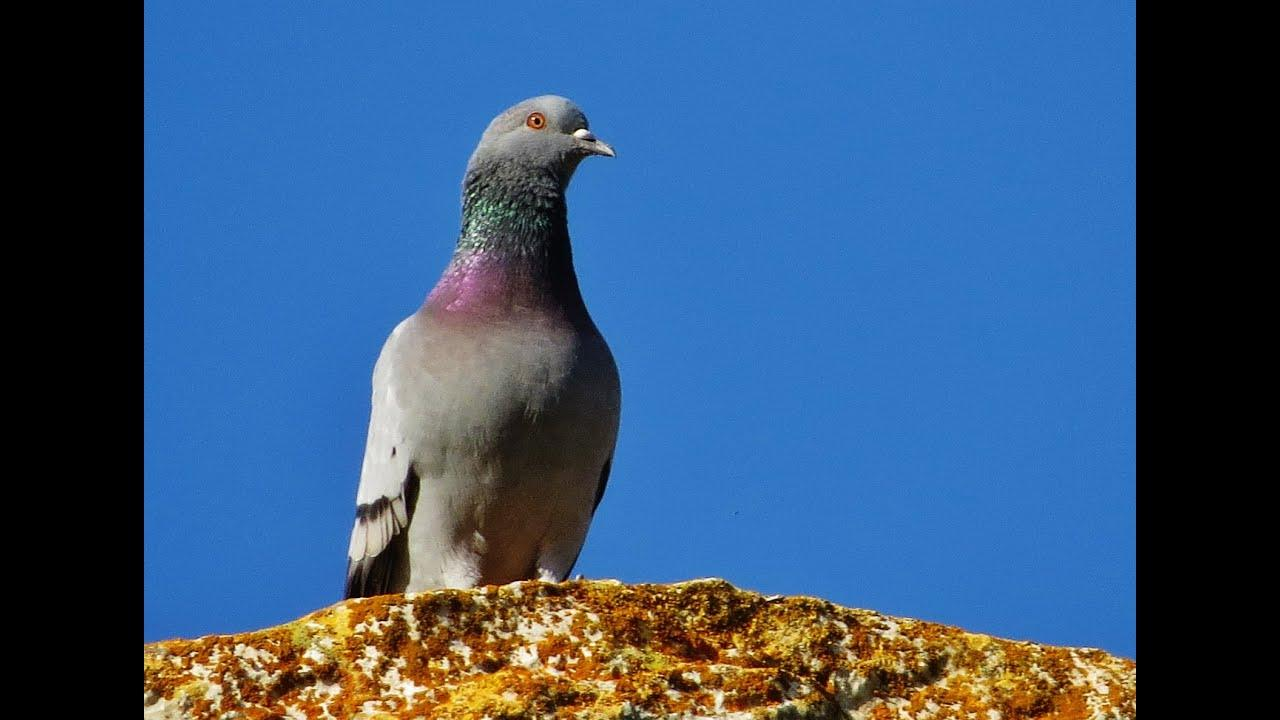Flying Rat: (337, 90, 620, 611)
